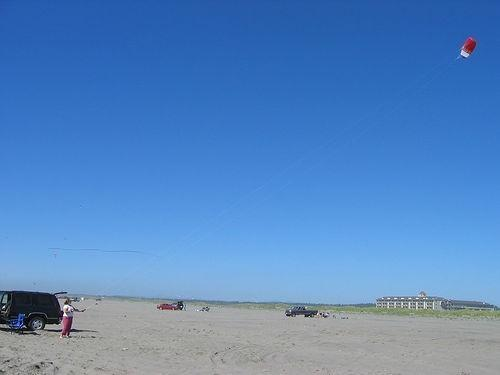car: (156, 304, 178, 311)
truck: (1, 290, 67, 330), (284, 306, 319, 318)
